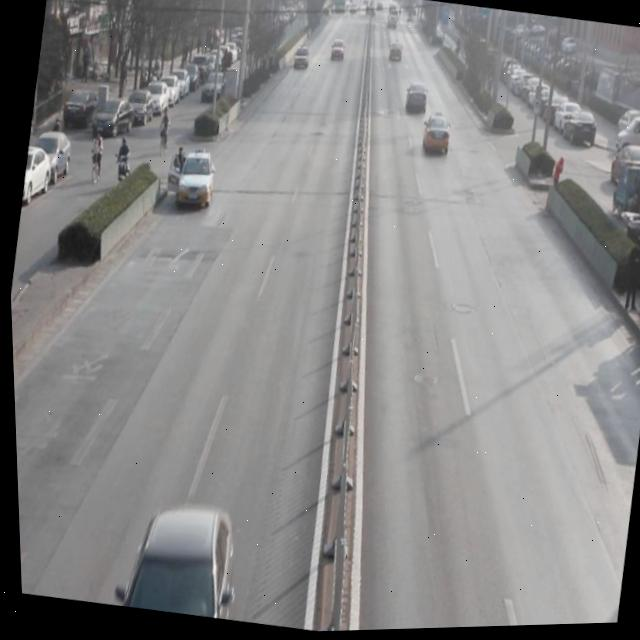car: (110, 492, 238, 623), (171, 138, 219, 218), (418, 114, 455, 162), (402, 84, 429, 122), (325, 36, 351, 72), (289, 44, 314, 76)
